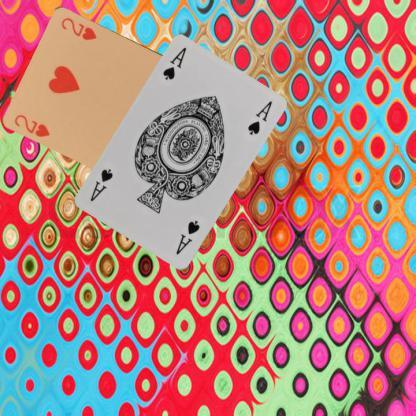2h: (11, 112, 52, 138)
As: (173, 218, 202, 256), (160, 45, 188, 82)
